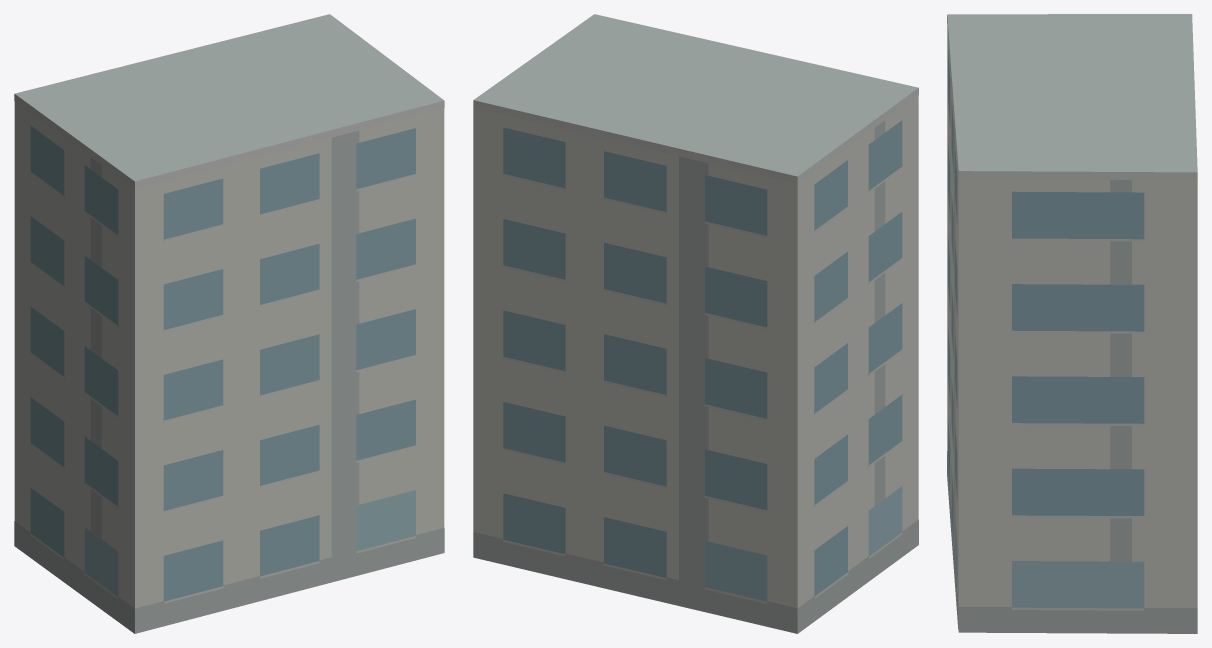
The model's file is survey-upis-32728790.glb.
3 renders of one model, left to right at view 1: azimuth 30°, elevation 25°; view 2: azimuth 150°, elevation 25°; view 3: azimuth 270°, elevation 25°, orthographic.
Parts seen in each view (by area): view 1: survey-upis-32728790.tmp; view 2: survey-upis-32728790.tmp; view 3: survey-upis-32728790.tmp.
Boxes of the visible parts, box(x1,y1,x2,y2) form: survey-upis-32728790.tmp: box(14, 14, 444, 633); survey-upis-32728790.tmp: box(473, 14, 918, 633); survey-upis-32728790.tmp: box(947, 14, 1197, 633).
Bounding box in the file's own units: 10.47 × 14.2 × 6.99.
